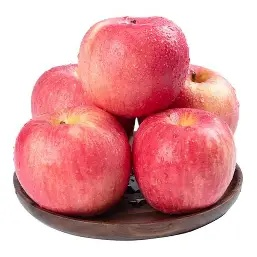ripe_apple: (73, 7, 193, 120), (15, 105, 132, 218), (134, 107, 235, 215), (179, 64, 240, 132), (31, 64, 86, 121)
